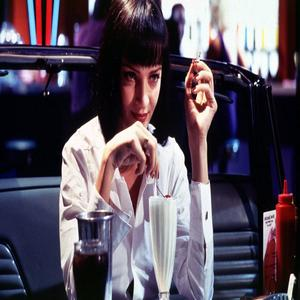cigarette: (194, 47, 203, 73)
